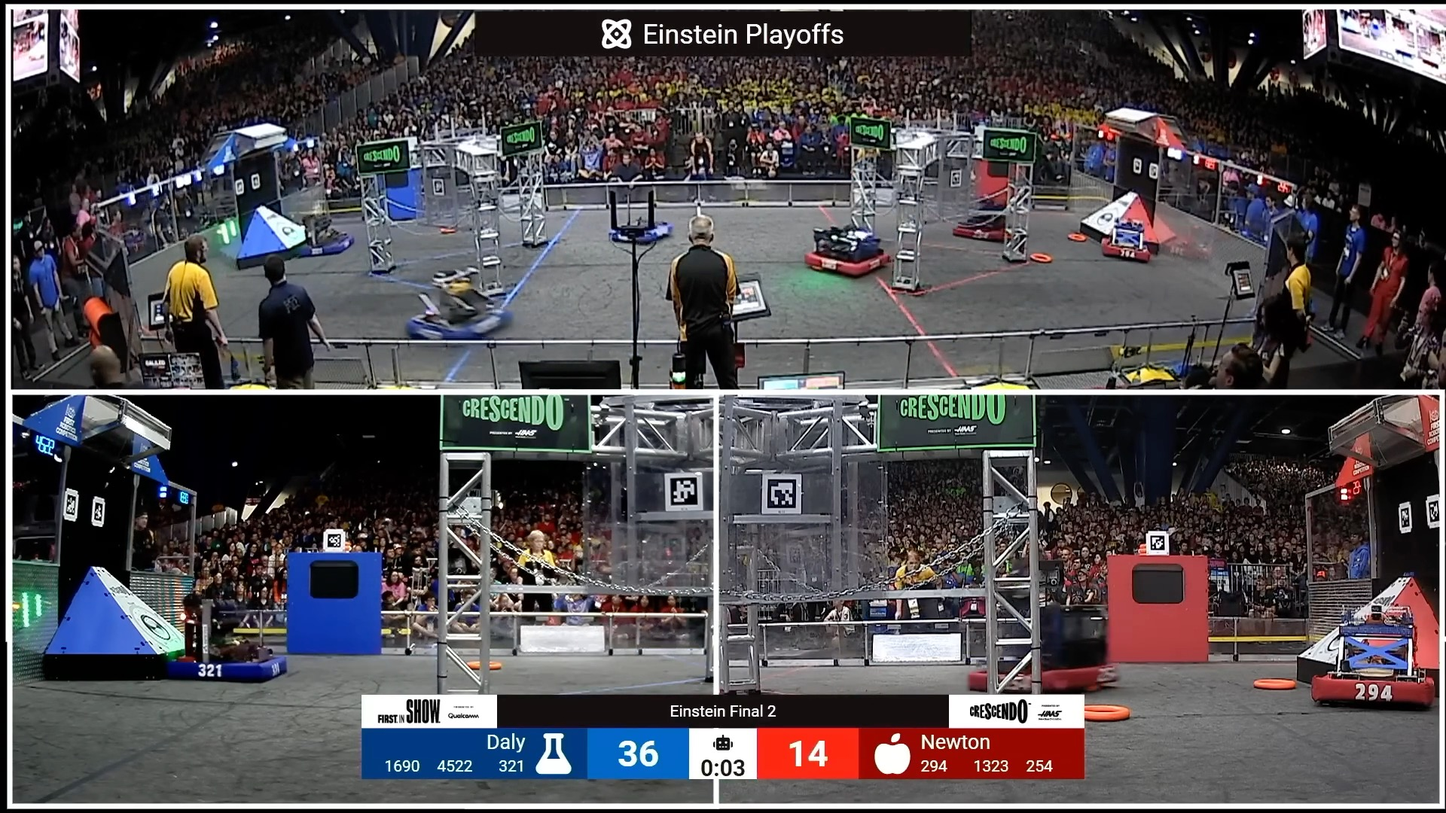bumpers: (392, 299, 519, 351), (1078, 211, 1182, 269), (170, 646, 300, 688), (965, 667, 1125, 699), (1307, 676, 1441, 713), (797, 241, 898, 283), (601, 221, 675, 246), (953, 222, 1024, 246), (295, 235, 354, 258)
